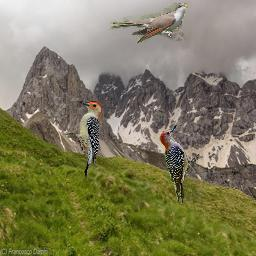Cuckoo: (109, 3, 188, 43)
Woodpecker: (157, 123, 204, 203), (63, 101, 102, 179)
